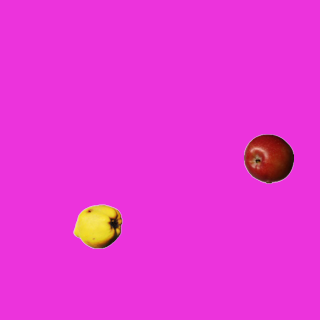Apple Braeburn: (243, 133, 293, 183)
Quince: (72, 201, 122, 251)
